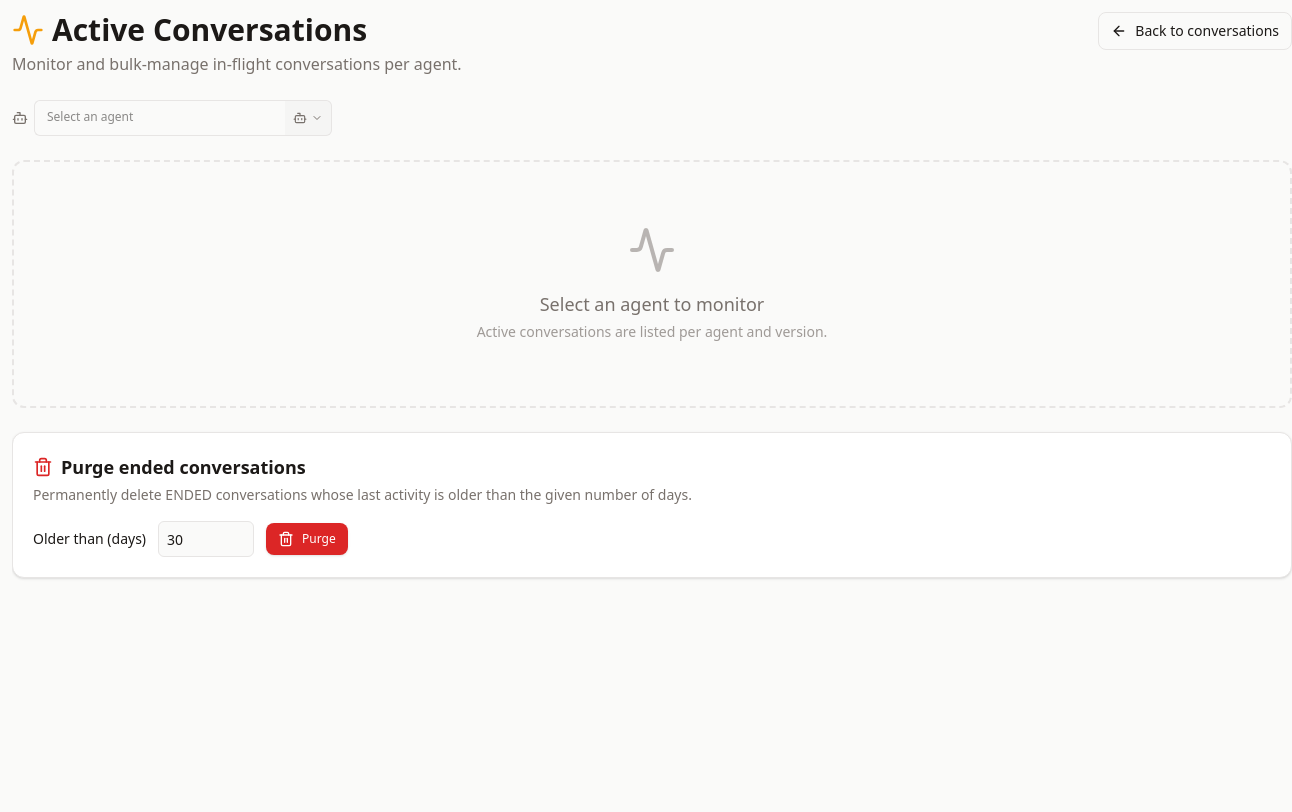
ConversationMonitoringPage — purge ended › clamps the days input to a minimum of 1 (0 would purge ALL ended conversations)
Trying to set 0 (which would purge every ENDED conversation) is clamped.
Replace the text in the number field with test id "purge-days" with "0" at (206, 539), box x1=158 y1=521 x2=254 y2=557
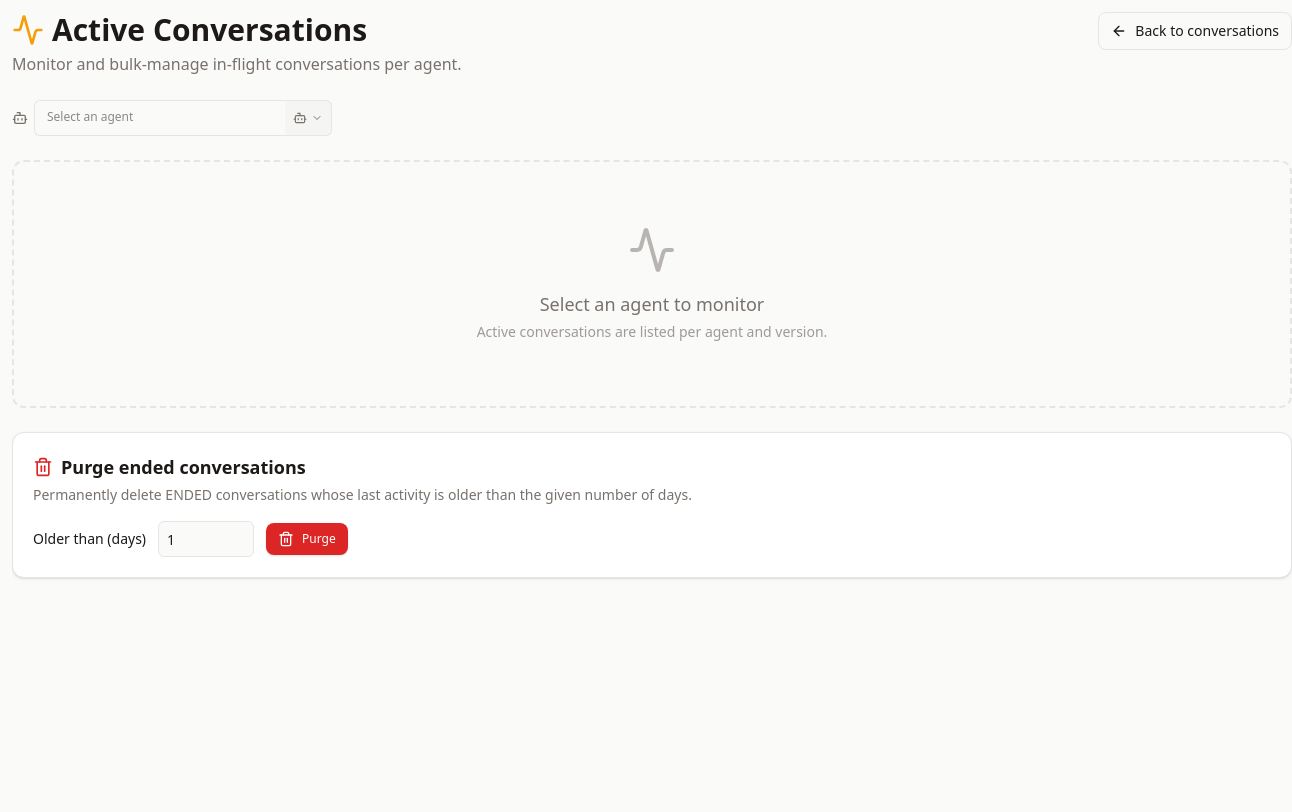
Expected: the number field with test id "purge-days" holds "1", x1=158 y1=521 x2=254 y2=557
